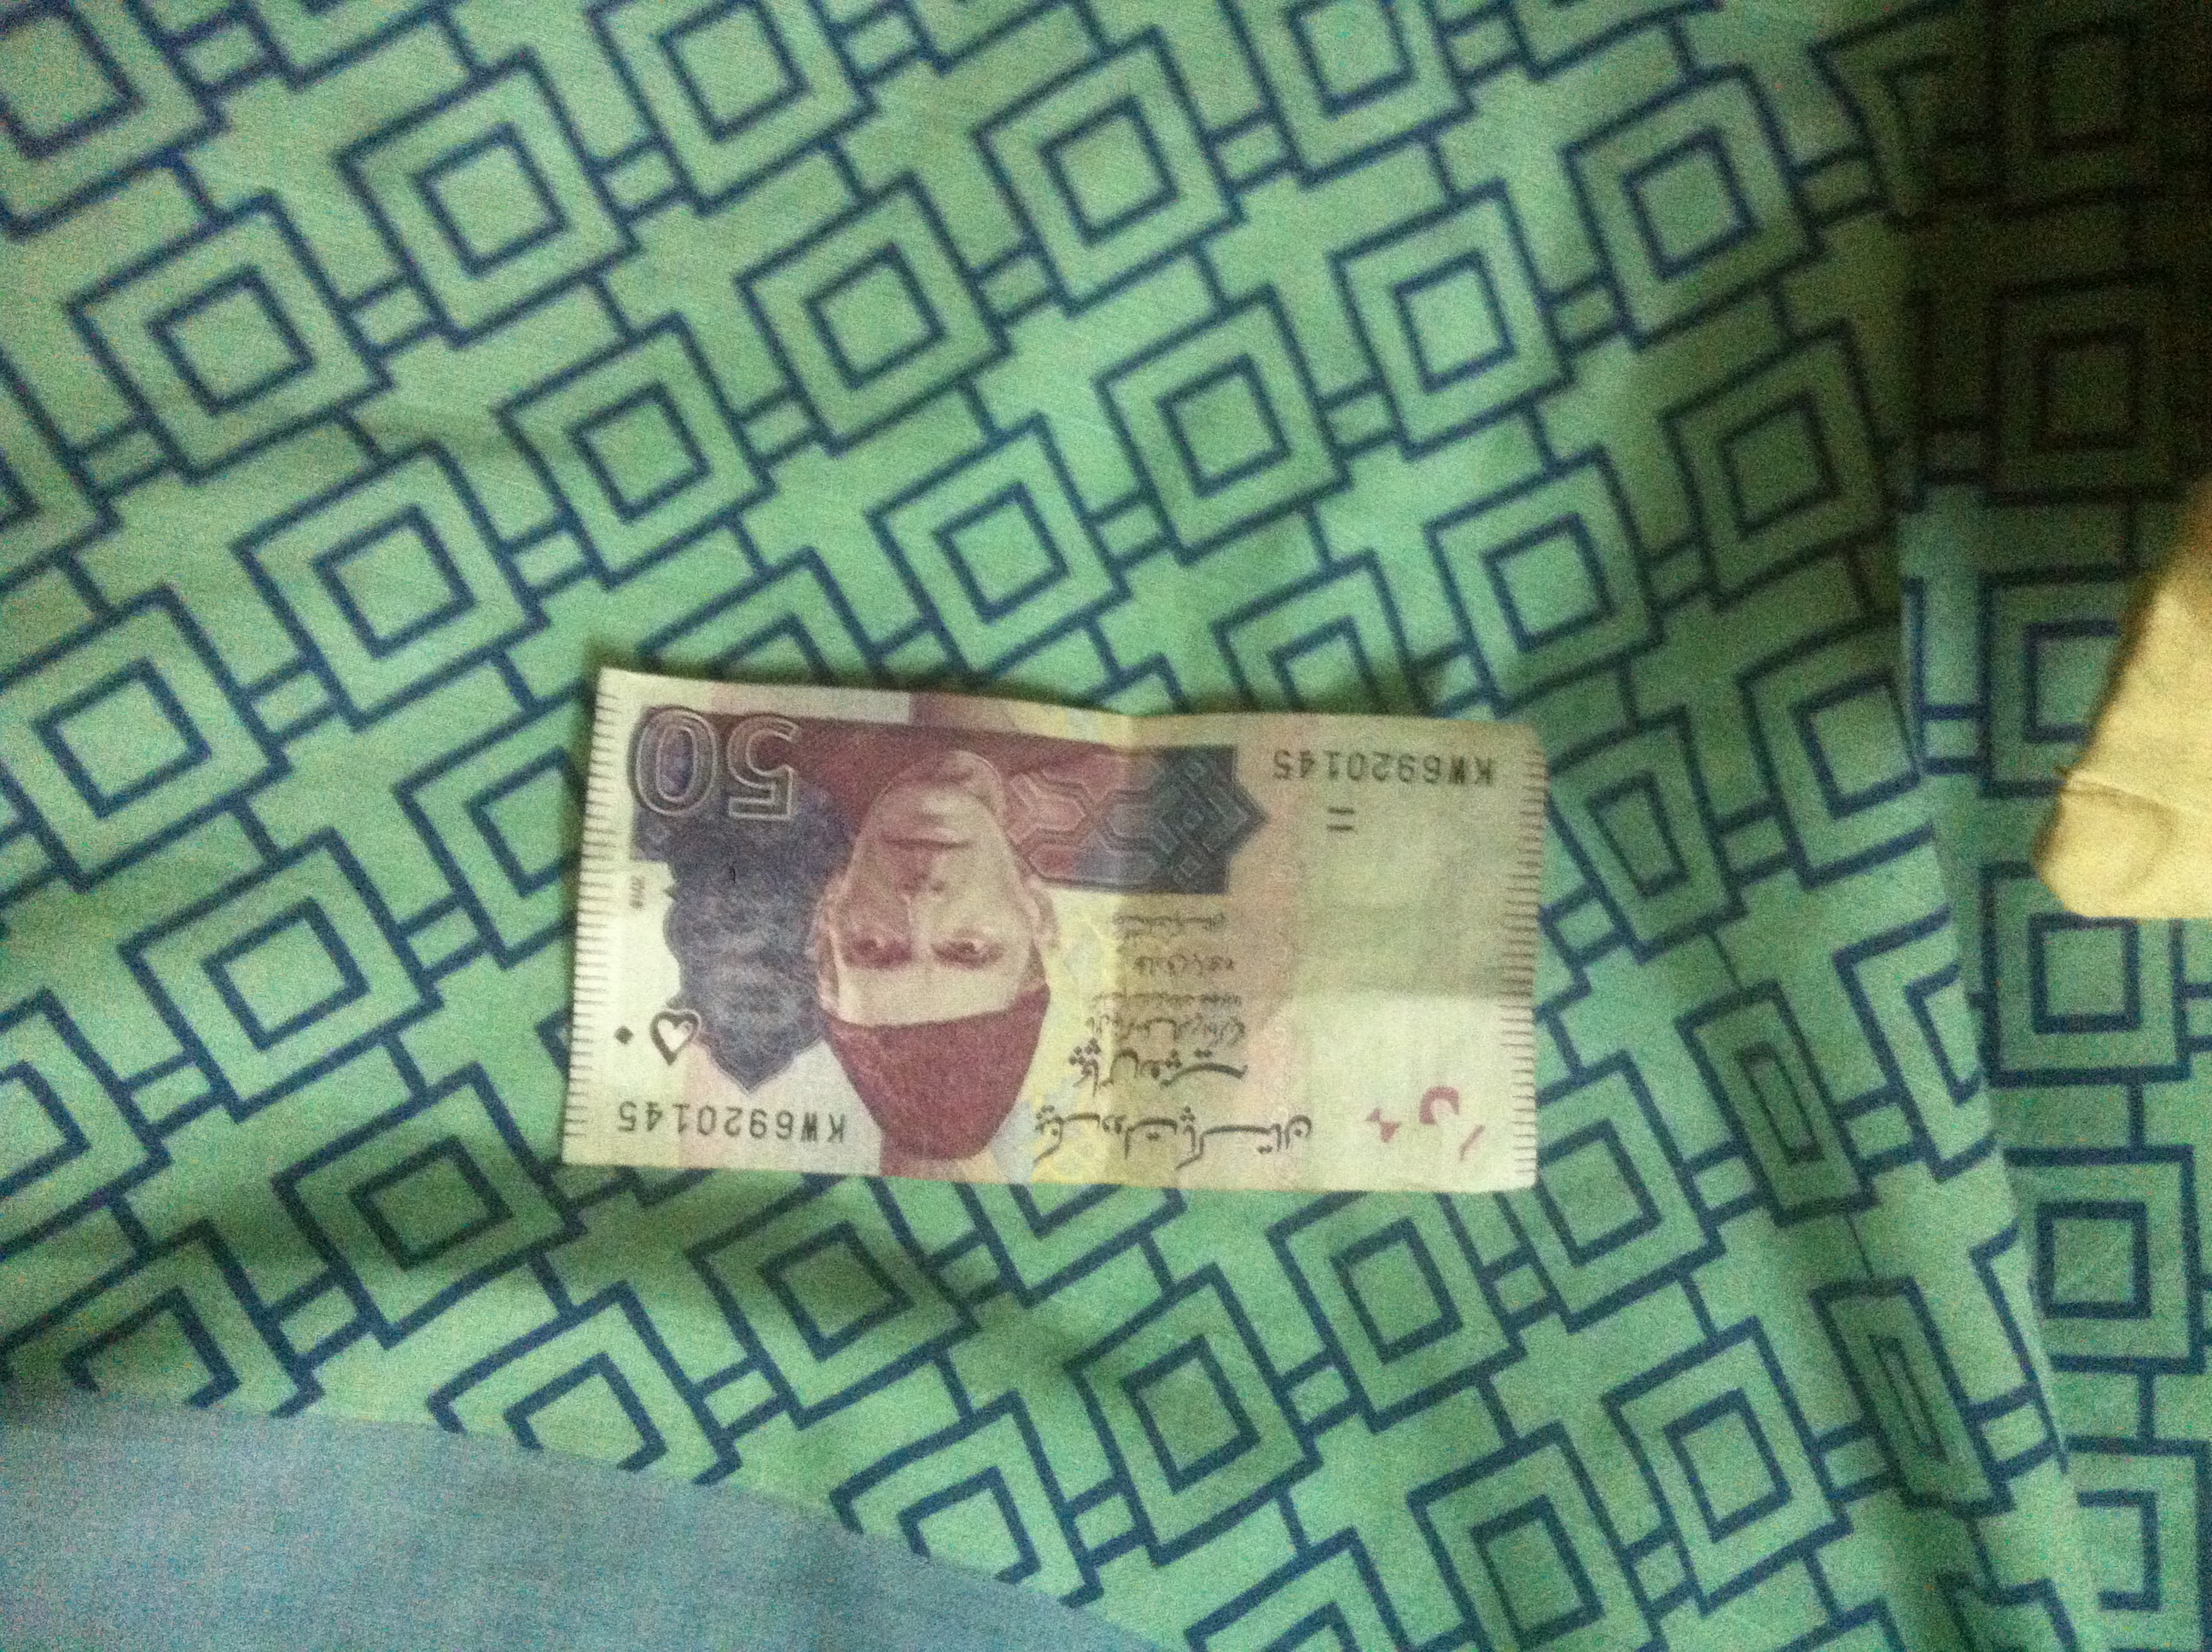50 rupee: (508, 621, 1584, 1307)
